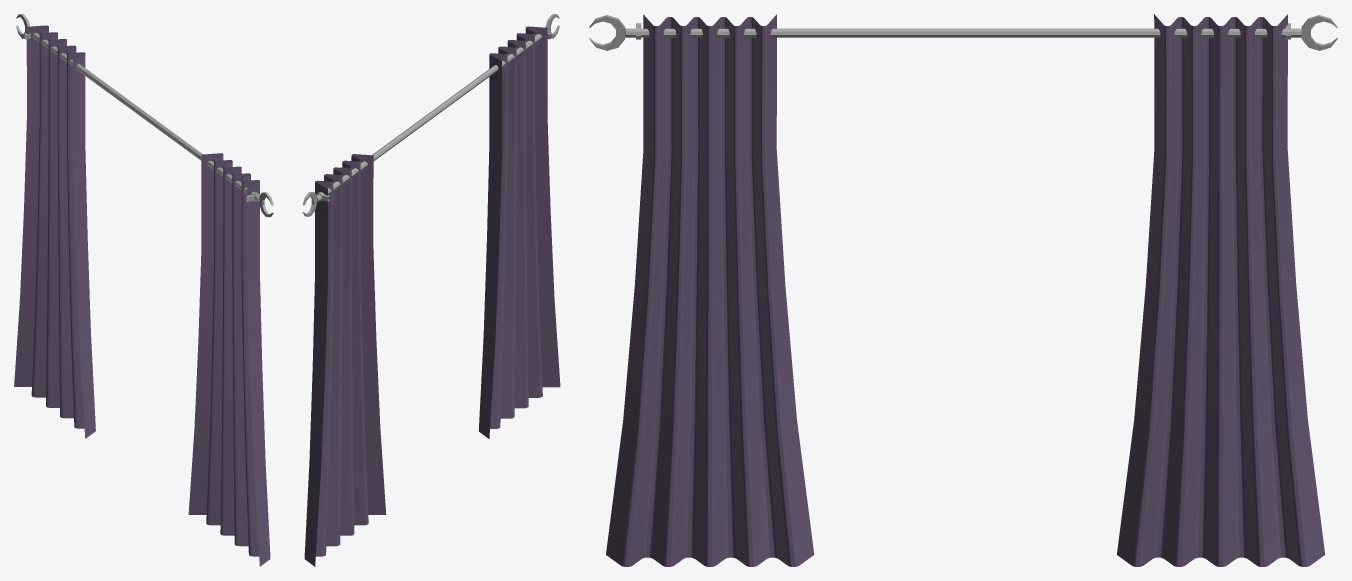
Rendered from SM_Room_Curtain.fbx.
3 views of the same model, side by side, from view 1: azimuth 30°, elevation 25°; view 2: azimuth 150°, elevation 25°; view 3: azimuth 270°, elevation 25° (orthographic). The views are drawn at different scales.
Visible parts, largest first — view 1: Curtain_right, Curtain_left, Curtain_rod; view 2: Curtain_left, Curtain_right, Curtain_rod; view 3: Curtain_left, Curtain_right, Curtain_rod.
Boxes of the visible parts, x1=… form: Curtain_right: x1=14, y1=25, x2=95, y2=438; Curtain_left: x1=188, y1=153, x2=270, y2=566; Curtain_rod: x1=16, y1=14, x2=273, y2=217; Curtain_left: x1=478, y1=26, x2=560, y2=438; Curtain_right: x1=304, y1=154, x2=386, y2=566; Curtain_rod: x1=302, y1=14, x2=559, y2=216; Curtain_left: x1=606, y1=14, x2=814, y2=566; Curtain_right: x1=1117, y1=14, x2=1325, y2=566; Curtain_rod: x1=589, y1=15, x2=1337, y2=50.
Size of the model in its own units: 0.1253 by 2.4 by 3.
